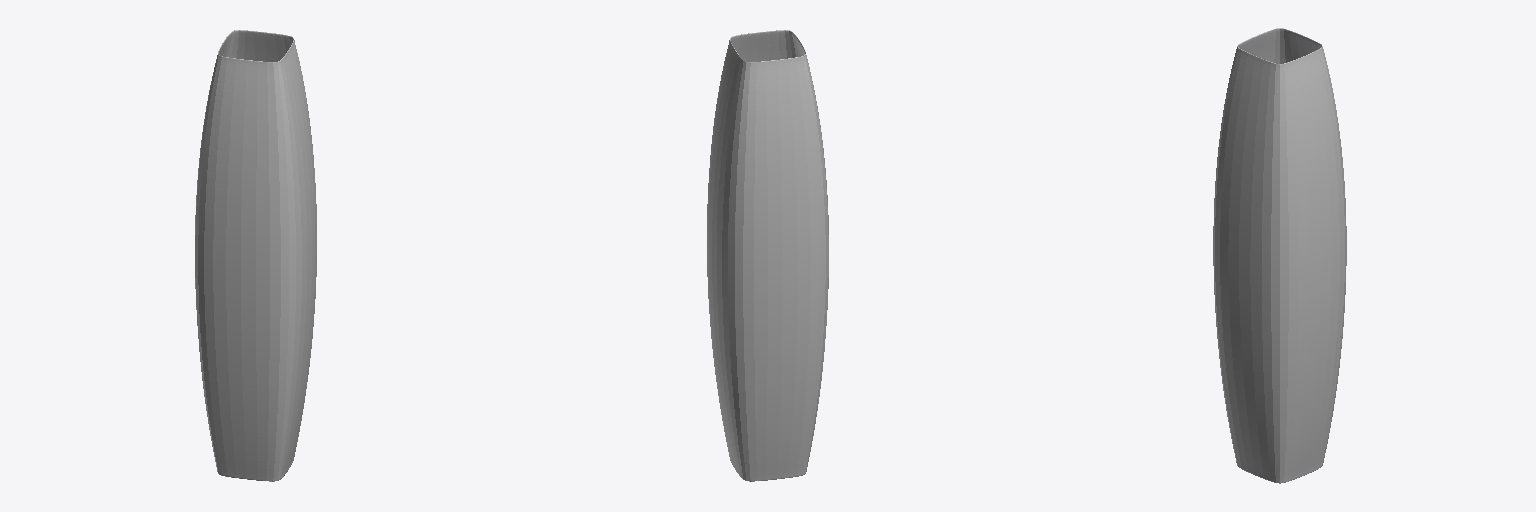
File: build-vase-3.obj
3 renders of one model, left to right at view 1: azimuth 30°, elevation 25°; view 2: azimuth 150°, elevation 25°; view 3: azimuth 270°, elevation 25°, orthographic.
Visible parts, largest first — view 1: VaseGenerator; view 2: VaseGenerator; view 3: VaseGenerator.
Boxes of the visible parts, x1,y1,x2,y2 form: VaseGenerator: [195, 30, 316, 481]; VaseGenerator: [707, 30, 828, 481]; VaseGenerator: [1213, 28, 1346, 483].
Bounding box in the file's own units: 0.0679 × 0.2359 × 0.0679.